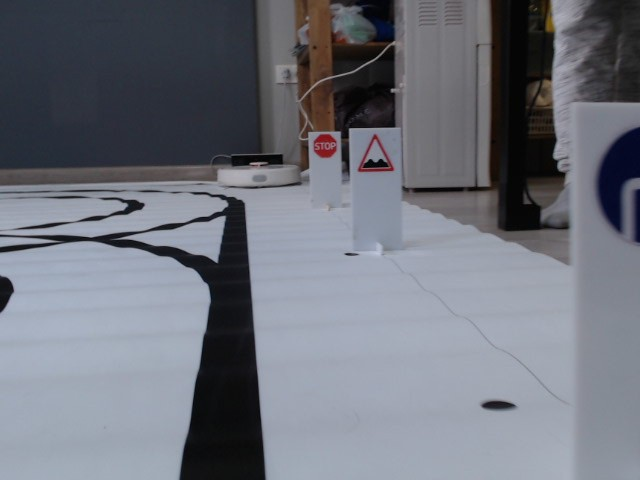Nerov: (357, 135, 398, 175)
Stop: (314, 134, 336, 158)
